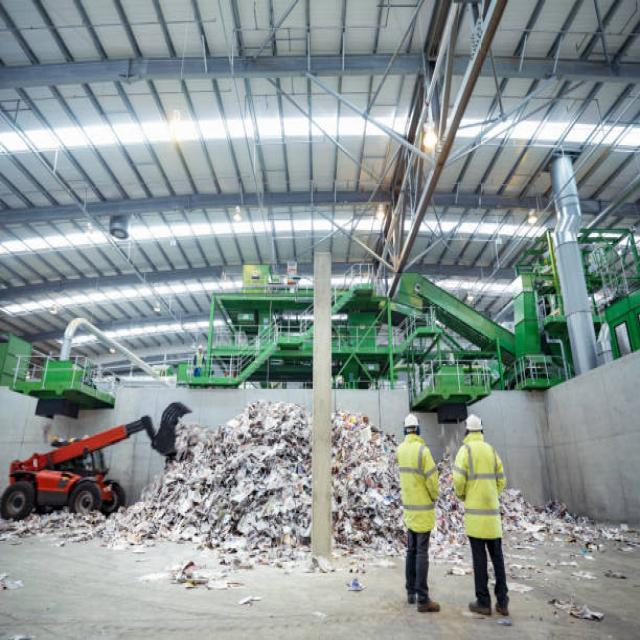trash: (122, 411, 406, 572)
